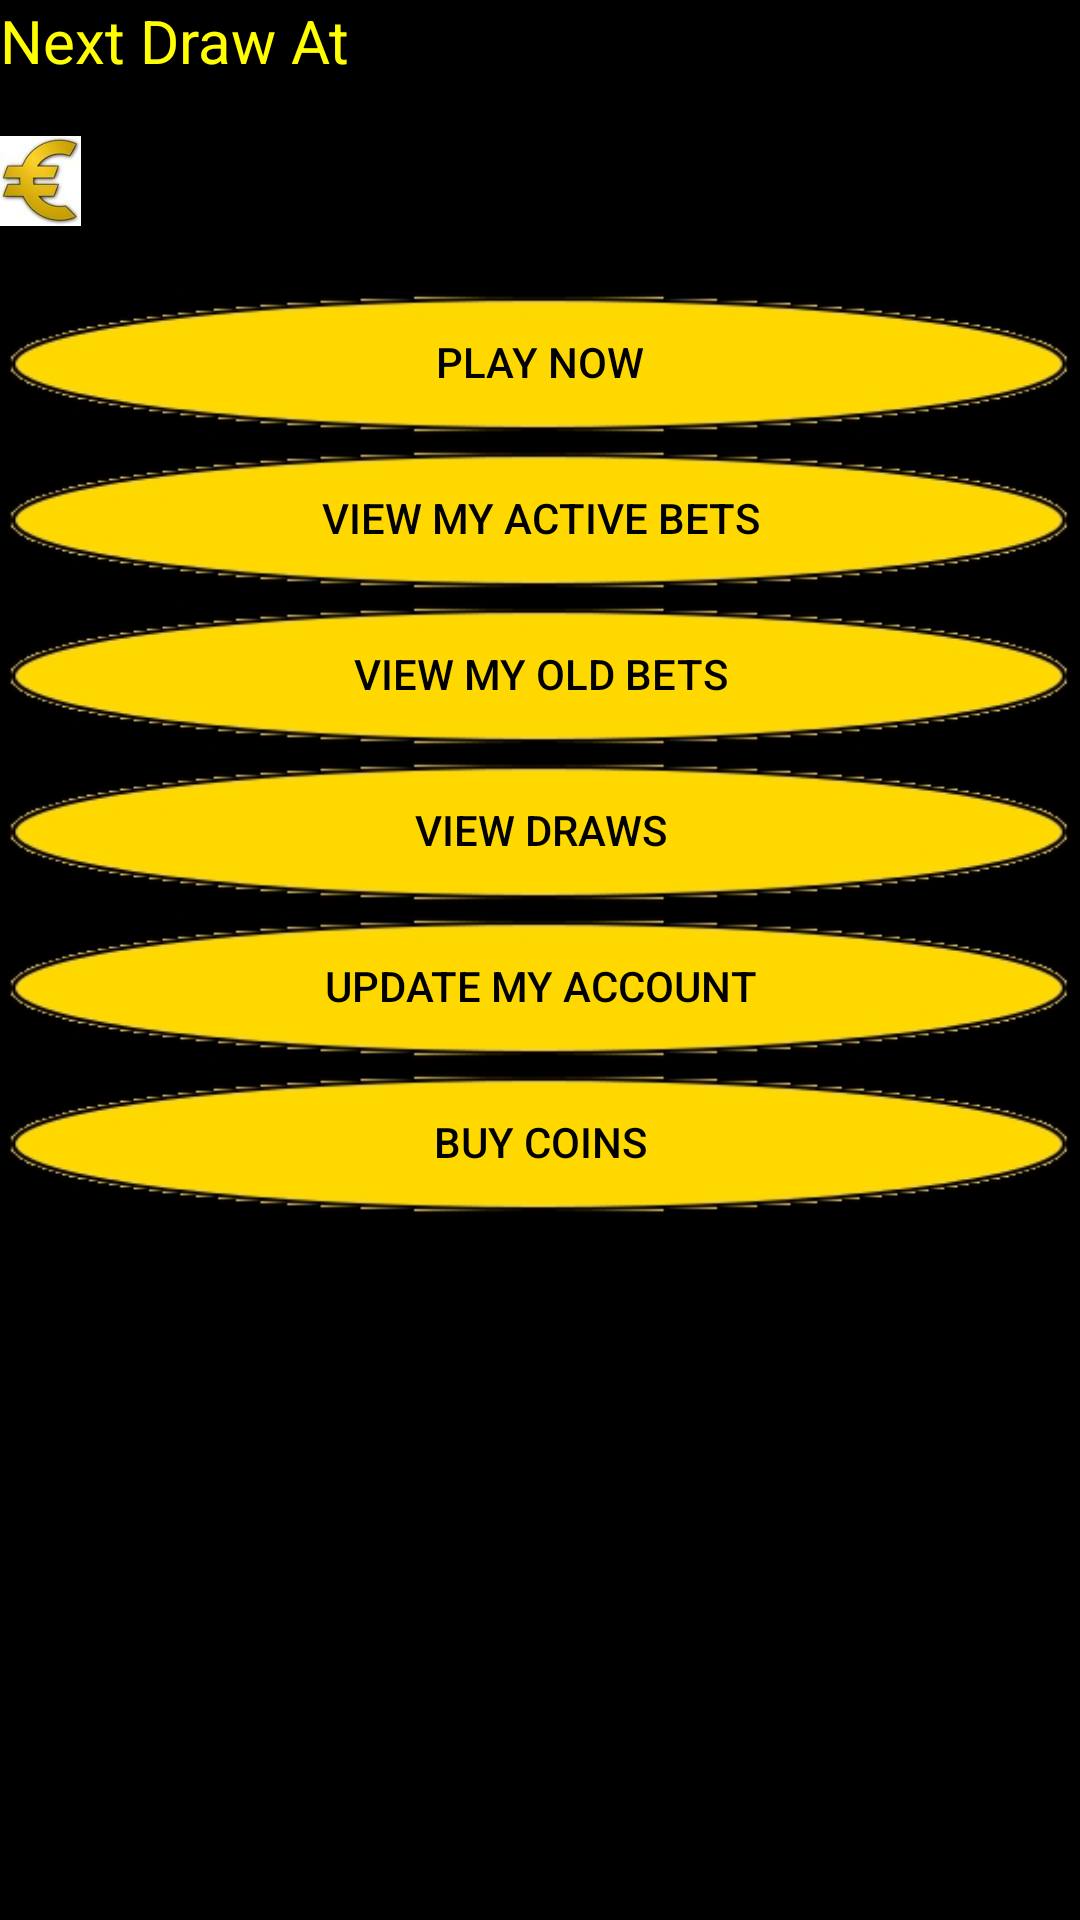

Screen size 1080×1920. Icon name, then its center in pixels as point (x, y):
Coins: point (40, 181)
